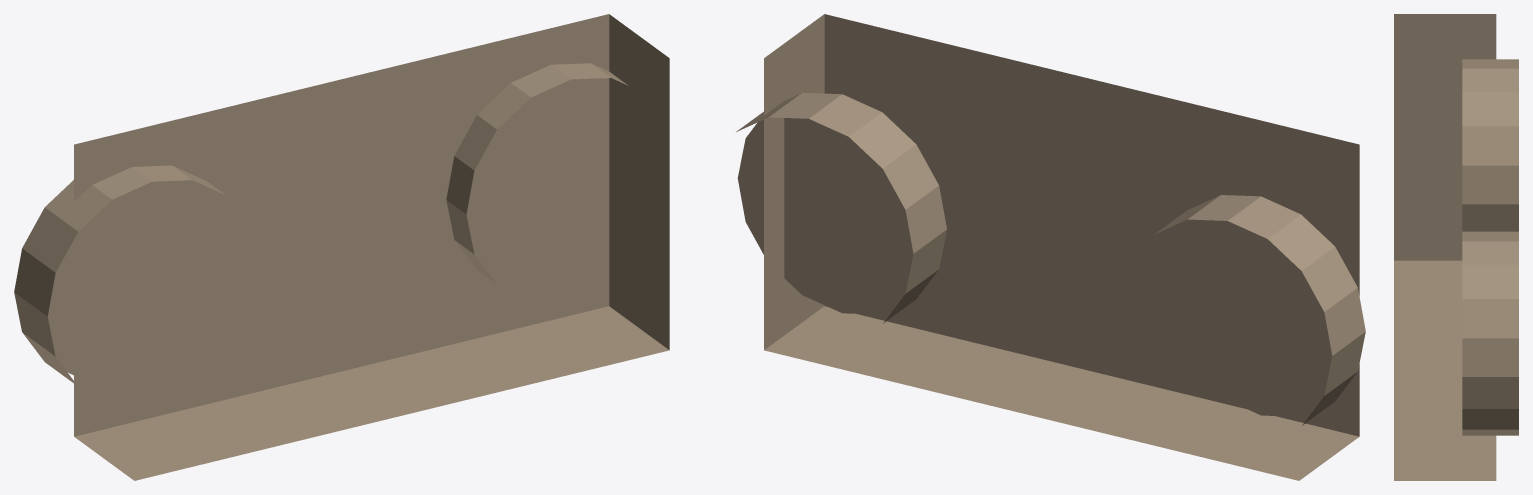
Rendered from cart.glb.
3 renders of one model, left to right at view 1: azimuth 30°, elevation 25°; view 2: azimuth 150°, elevation 25°; view 3: azimuth 270°, elevation 25°, orthographic. The views are drawn at different scales.
Parts seen in each view (by area): view 1: world; view 2: world; view 3: world.
Part boxes in pixels (box(x1,y1,x2,y2)): world: box(14, 14, 669, 480); world: box(736, 14, 1365, 480); world: box(1394, 14, 1518, 480).
Size of the model in its own units: 2.7 by 1.2 by 0.55.
